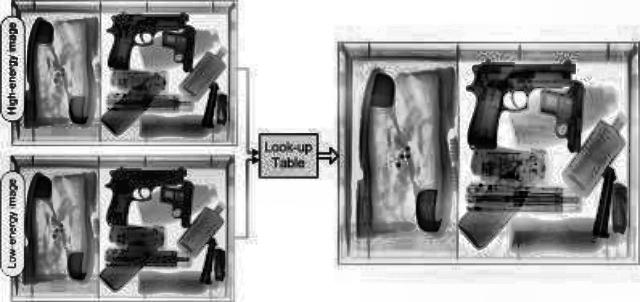Gun: (466, 57, 576, 147), (99, 163, 189, 226), (102, 9, 192, 69)
